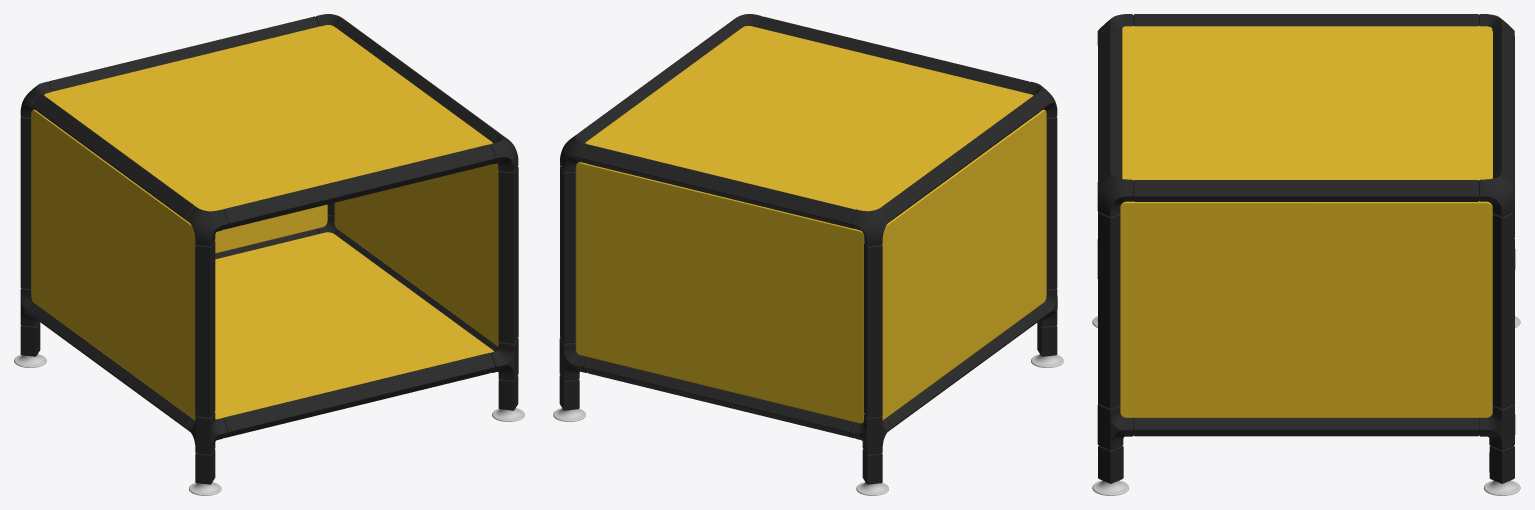
3 renders of one model, left to right at view 1: azimuth 30°, elevation 25°; view 2: azimuth 150°, elevation 25°; view 3: azimuth 270°, elevation 25°, orthographic. The views are drawn at different scales.
Parts seen in each view (by area): view 1: 374x374x229; view 2: 374x374x229; view 3: 374x374x229.
Boxes of the visible parts, x1,y1,x2,y2 form: 374x374x229: (14,14,524,495); 374x374x229: (553,14,1063,495); 374x374x229: (1092,14,1520,495).
Bounding box in the file's own units: 0.4639 × 0.3683 × 0.4632.
